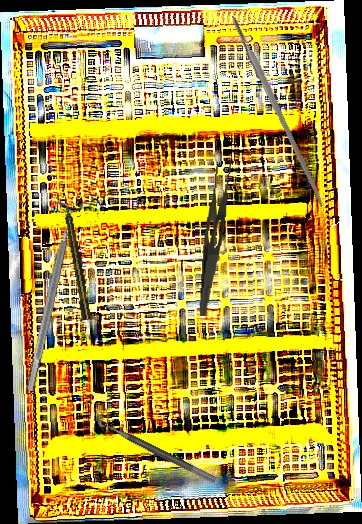Dressing Forceps: (198, 159, 235, 318)
Fixation Ring: (14, 194, 87, 395), (92, 405, 223, 485)
Handpiece: (60, 201, 93, 321)
Scalpel Handle: (230, 14, 327, 209)
